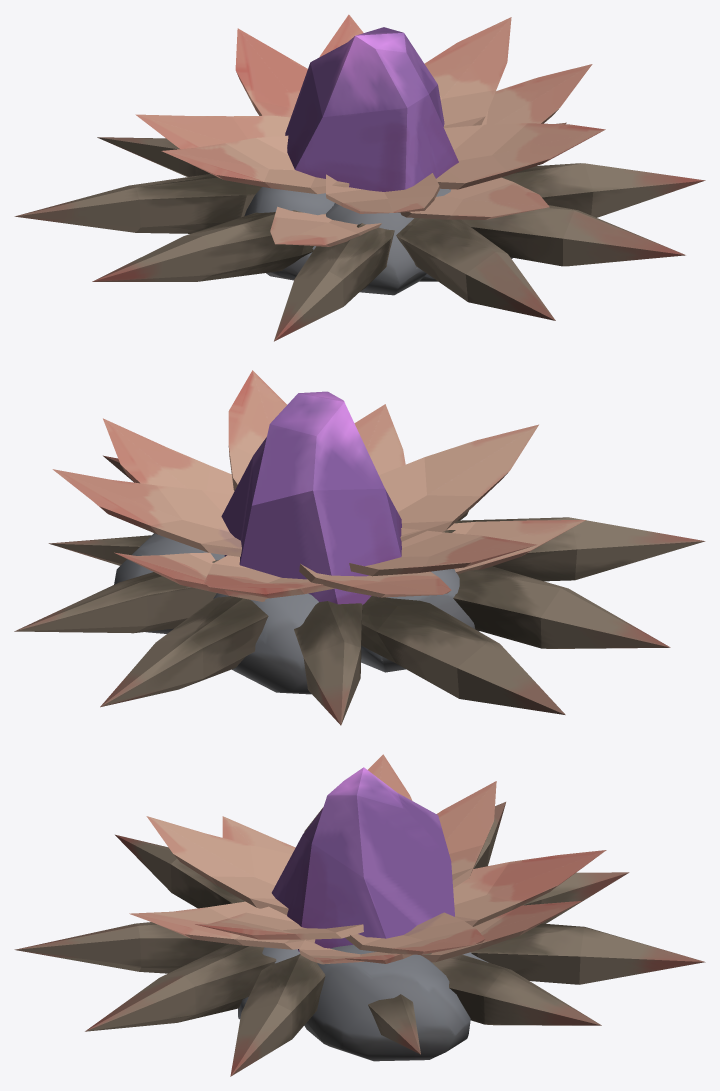
Rendered from SpikyFlower.fbx.
3 renders of one model, top to bottom at view 1: azimuth 30°, elevation 25°; view 2: azimuth 150°, elevation 25°; view 3: azimuth 270°, elevation 25°, orthographic. The views are drawn at different scales.
Parts seen in each view (by area): view 1: Cube.030, Cube.034, Cube.036, Cube.041, Cube.040, Plane.006, Cube.035, Cube.039, Plane.004, Plane.003, Plane.002, Plane.007 (+8 smaller); view 2: Cube.030, Cube.034, Cube.041, Plane.005, Cube.045, Plane.004, Cube.035, Cube.038, Cube.037, Cube.042, Plane.009, Plane.003 (+9 smaller); view 3: Cube.030, Cube.033, Cube.045, Cube.040, Cube.039, Cube.038, Plane.005, Cube.036, Plane.002, Plane.010, Cube.035, Plane.007 (+9 smaller).
Part boxes in pixels (x1,y1,x2,y2): Cube.030: [285, 27, 458, 191]; Cube.034: [14, 174, 261, 233]; Cube.036: [396, 218, 555, 320]; Cube.041: [92, 210, 325, 281]; Cube.040: [461, 205, 685, 266]; Plane.006: [436, 123, 605, 189]; Cube.035: [274, 223, 394, 341]; Cube.039: [501, 163, 705, 217]; Plane.004: [424, 17, 511, 127]; Plane.003: [161, 135, 349, 194]; Plane.002: [235, 28, 307, 117]; Plane.007: [400, 177, 549, 219]; Cube.030: [221, 391, 401, 604]; Cube.034: [361, 596, 565, 714]; Cube.041: [453, 566, 670, 648]; Plane.005: [379, 424, 538, 541]; Cube.045: [100, 596, 268, 707]; Plane.004: [52, 469, 241, 556]; Cube.035: [442, 517, 705, 581]; Cube.038: [14, 560, 218, 633]; Cube.037: [294, 601, 362, 725]; Cube.042: [213, 593, 318, 694]; Plane.009: [103, 418, 234, 494]; Plane.003: [349, 528, 537, 576]; Cube.030: [271, 767, 454, 951]; Cube.033: [304, 944, 470, 1061]; Cube.045: [471, 923, 705, 984]; Cube.040: [85, 944, 276, 1031]; Cube.039: [230, 954, 325, 1076]; Cube.038: [424, 953, 601, 1025]; Plane.005: [146, 816, 291, 915]; Cube.036: [14, 922, 228, 973]; Plane.002: [453, 850, 606, 926]; Plane.010: [436, 781, 496, 887]; Cube.035: [115, 834, 244, 908]; Plane.007: [129, 901, 315, 949].
Size of the model in its own units: 113 by 41.78 by 118.
1 material, 1 textured.
